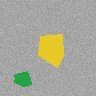climbing-hold: (39, 34, 63, 68), (13, 71, 31, 87)
